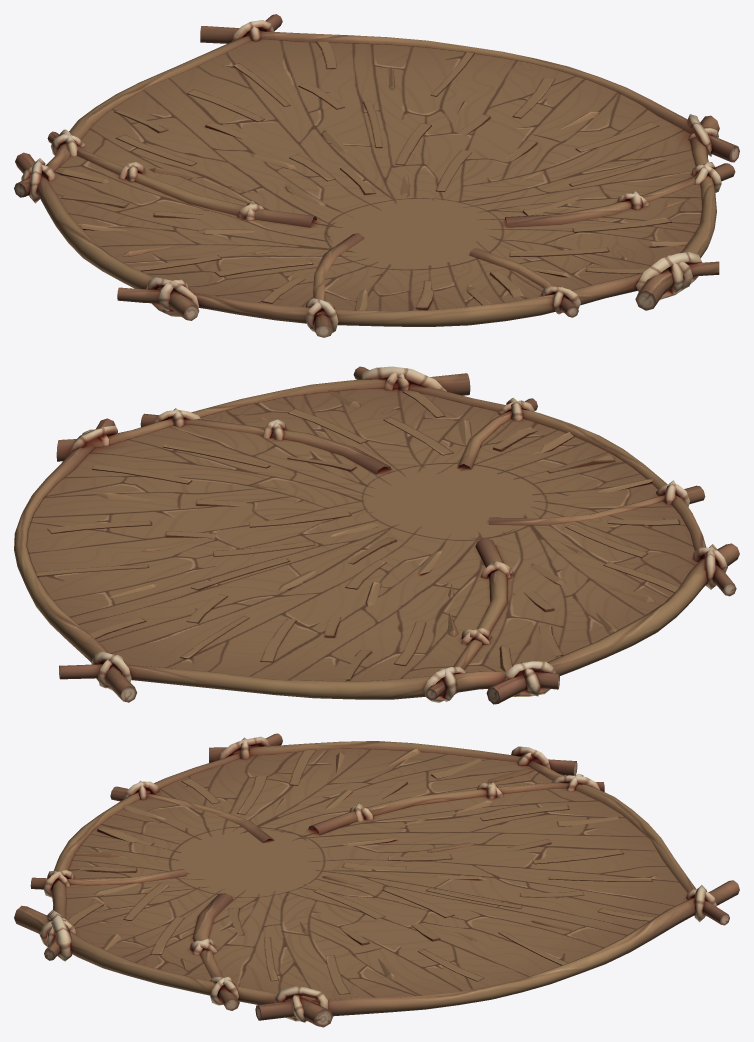
The model's file is Village_CirclePlatform.fbx.
3 views of the same model, one above another, from view 1: azimuth 30°, elevation 25°; view 2: azimuth 150°, elevation 25°; view 3: azimuth 270°, elevation 25° (orthographic). The views are drawn at different scales.
Visible parts, largest first — view 1: Village_CirclePlatform; view 2: Village_CirclePlatform; view 3: Village_CirclePlatform.
Part boxes in pixels (left/top/right/bottom): Village_CirclePlatform: left=14, top=14, right=739, bottom=337; Village_CirclePlatform: left=14, top=366, right=739, bottom=704; Village_CirclePlatform: left=14, top=733, right=739, bottom=1027.
Size of the model in its own units: 3729 by 236 by 4053.
